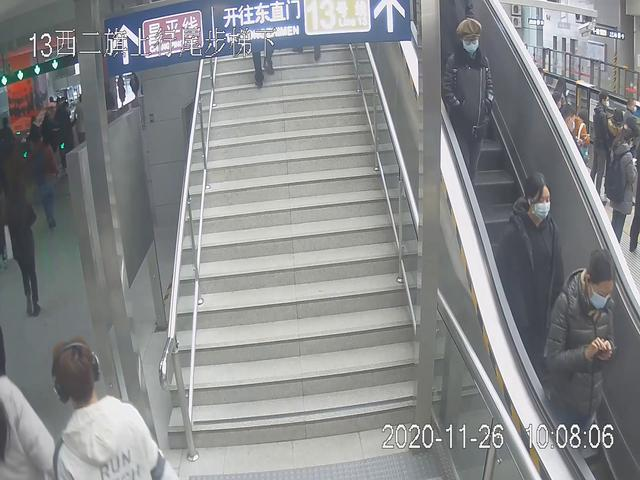person: (539, 248, 625, 475), (489, 168, 567, 402), (442, 15, 494, 206)
